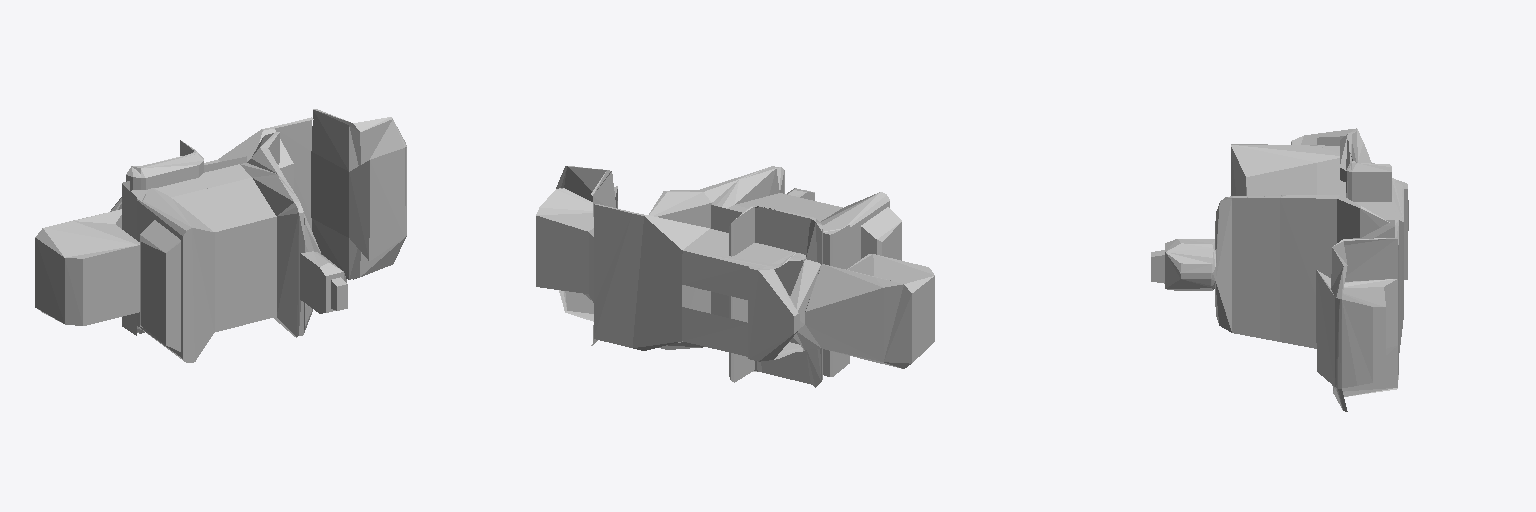
Rendered from gator_chassis_col.obj.
3 views of the same model, side by side, from view 1: azimuth 30°, elevation 25°; view 2: azimuth 150°, elevation 25°; view 3: azimuth 270°, elevation 25° (orthographic).
Visible parts, largest first — view 1: Gator_Body_Chrono.005; view 2: Gator_Body_Chrono.005; view 3: Gator_Body_Chrono.005.
Boxes of the visible parts, x1,y1,x2,y2 form: Gator_Body_Chrono.005: [35, 109, 406, 362]; Gator_Body_Chrono.005: [536, 166, 934, 387]; Gator_Body_Chrono.005: [1151, 128, 1408, 411].
Size of the model in its own units: 3.45 by 1.5 by 2.11.